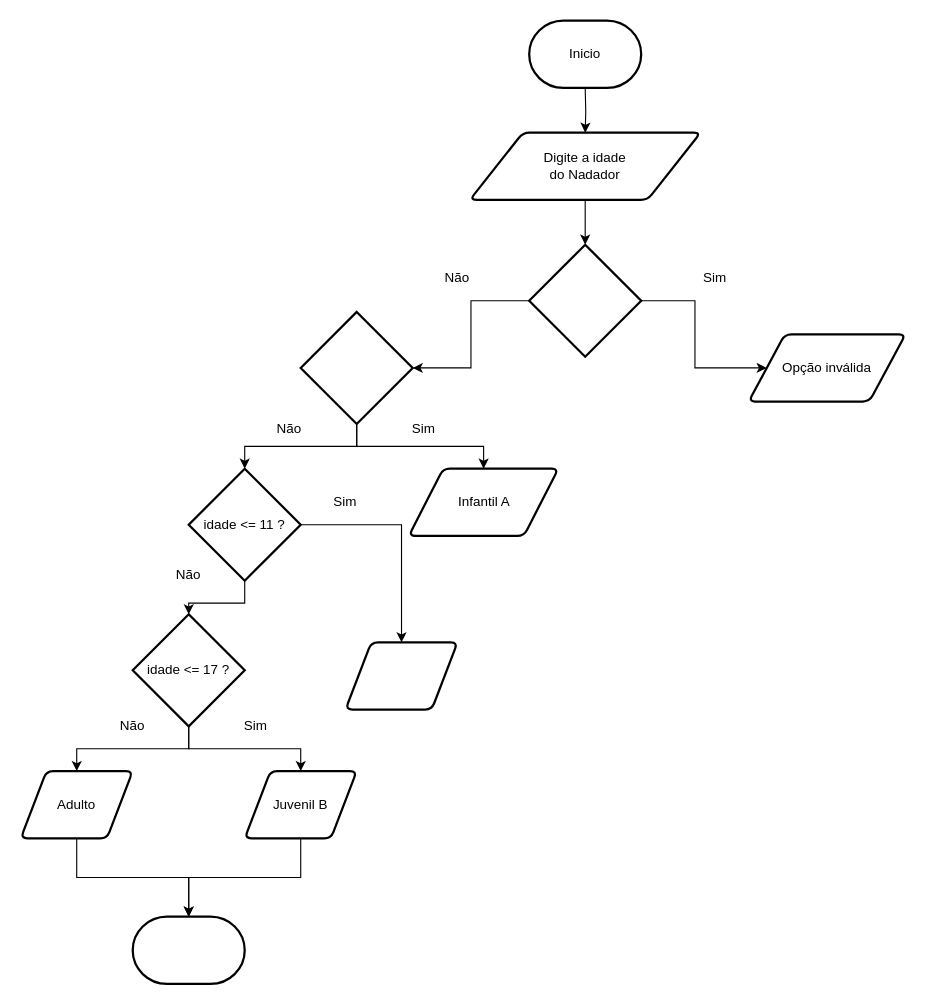
This 925x1004 diagram has some shape labels left out. The centre of each missing label's shape, as x and y in pixels:
Fim: point (188, 949)
idade < 5 ?: point (585, 300)
idade <= 7 ?: point (356, 367)
Juvenil A: point (401, 675)
